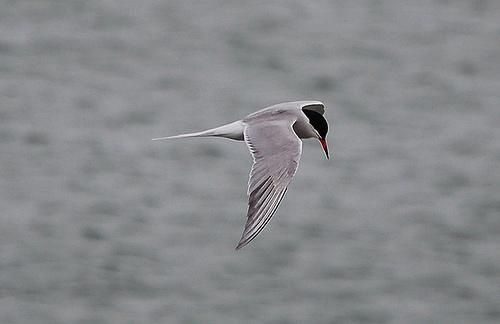bird: (151, 99, 329, 252)
